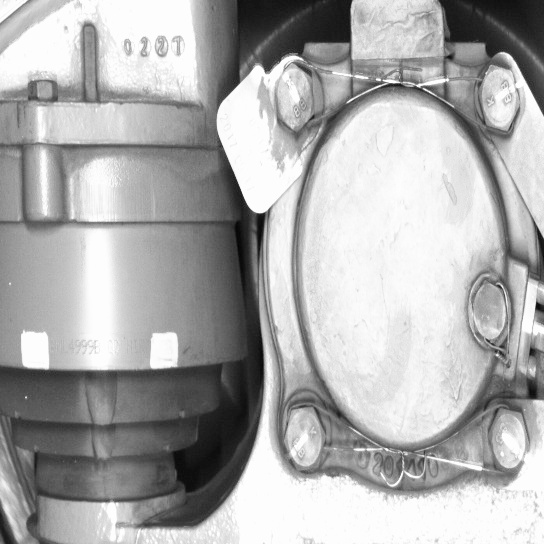IronWire: (274, 390, 532, 489), (263, 53, 524, 143)
Screw: (262, 52, 327, 140), (272, 389, 331, 480), (470, 53, 524, 143), (479, 401, 531, 486), (466, 267, 513, 355)
